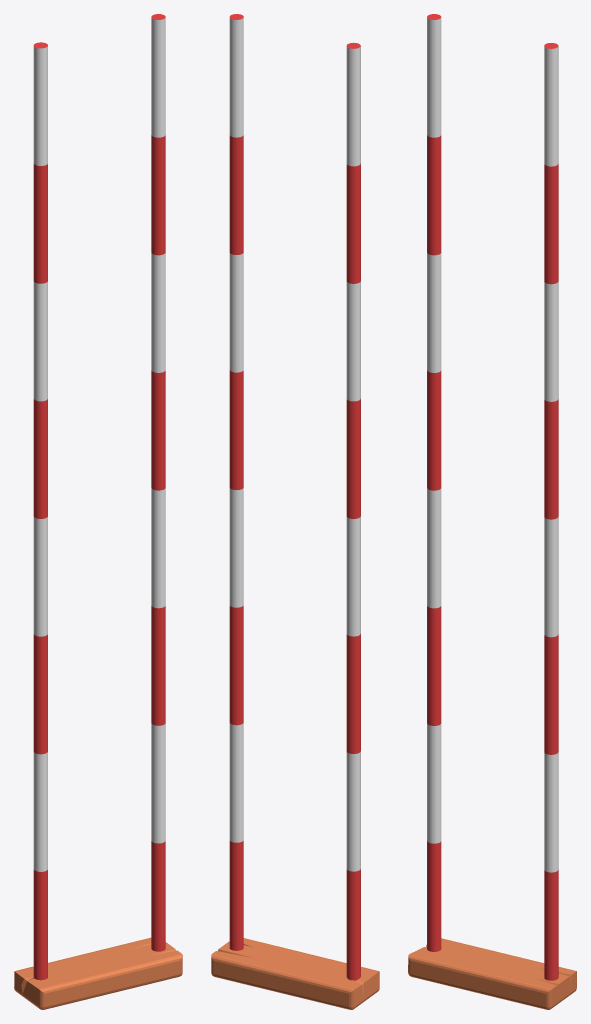
File: Balancin.fbx
The picture shows the model from 3 angles, left to right: view 1: azimuth 30°, elevation 25°; view 2: azimuth 150°, elevation 25°; view 3: azimuth 330°, elevation 25°; orthographic projection.
Parts seen in each view (by area): view 1: PaloBalancin.001, PaloBalancin, Balancin; view 2: PaloBalancin.001, PaloBalancin, Balancin; view 3: PaloBalancin.001, PaloBalancin, Balancin.
Part boxes in pixels (bbox=[...]): PaloBalancin.001: bbox=[33, 42, 47, 980]; PaloBalancin: bbox=[151, 14, 165, 951]; Balancin: bbox=[14, 937, 182, 1009]; PaloBalancin.001: bbox=[346, 42, 360, 980]; PaloBalancin: bbox=[229, 14, 243, 950]; Balancin: bbox=[211, 938, 379, 1009]; PaloBalancin.001: bbox=[427, 14, 441, 951]; PaloBalancin: bbox=[544, 43, 558, 980]; Balancin: bbox=[408, 938, 576, 1009].
Bounding box in the file's own units: 583 × 3698 × 200.
Materials: 2 (1 with a texture image).
